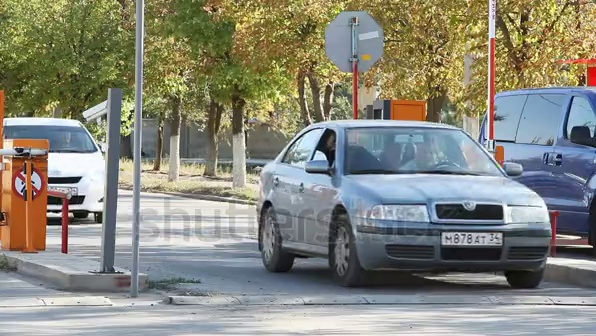licenseplate: (442, 227, 502, 247)
